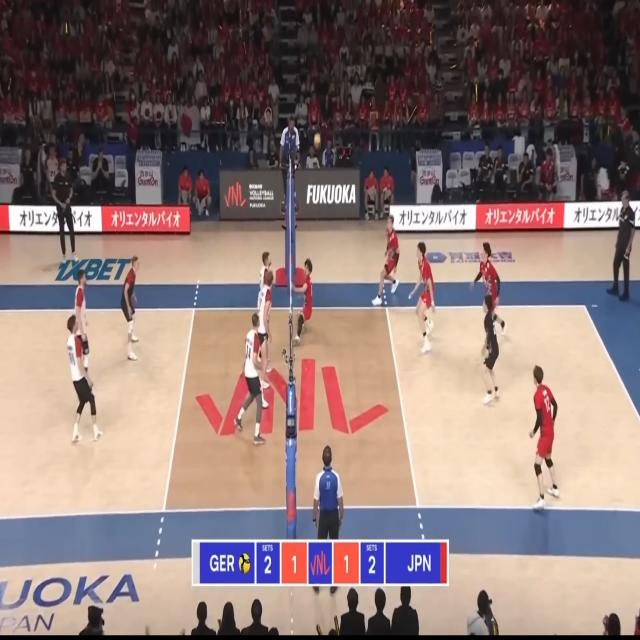ball: (314, 134, 320, 148)
